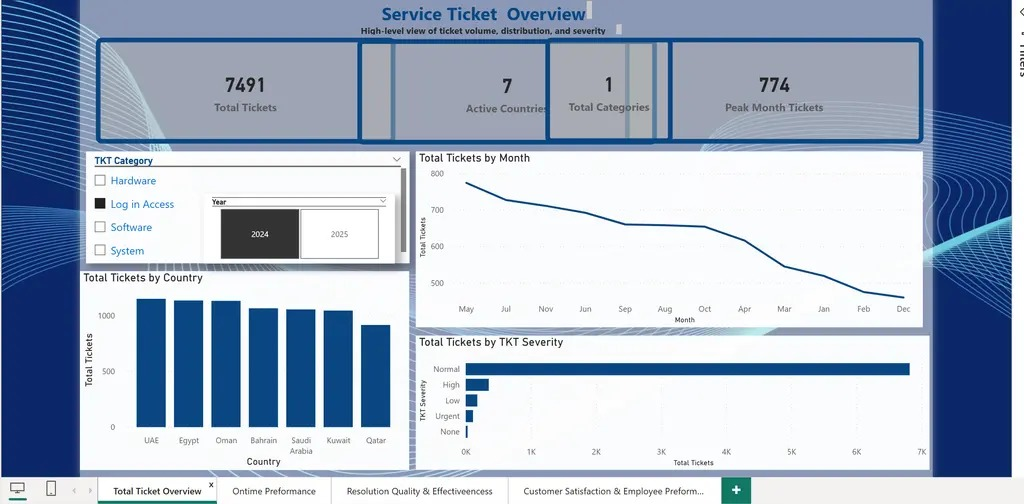

Layout of this report page (visuals, bound fields, positions):
{"tool":"powerbi","page":{"name":"Total Ticket Overview","canvas":[1280,720],"ordinal":0},"visuals":[{"type":"card","fields":{"Values":["Date Table.Total Tickets"]},"box":[23.9,60.3,449.3,159.2],"z":0},{"type":"card","fields":{"Values":["Date Table.Peak Month Tickets"]},"box":[817.8,60.3,448.2,159.2],"z":1000},{"type":"card","fields":{"Values":["Date Table.Active Countries"]},"box":[415.9,62.3,449.3,158],"z":2000},{"type":"card","fields":{"Values":["Date Table.Total Categories"]},"box":[698.4,60.3,191.1,158.1],"z":3000},{"type":"slicer","fields":{"Values":["Tickets.TKT Category"]},"box":[8.7,230.4,485.5,168.1],"z":4000},{"type":"columnChart","fields":{"Category":["Tickets.Country"],"Y":["Date Table.Total Tickets"]},"box":[0,410.1,494.2,298.6],"z":5000},{"type":"slicer","fields":{"Values":["Date Table.Year"]},"box":[185.5,294.2,287,104.3],"z":6000},{"type":"clusteredBarChart","fields":{"Category":["Tickets.TKT Severity"],"Y":["Date Table.Total Tickets"]},"box":[504.3,507.2,771,201.4],"z":7000},{"type":"lineChart","fields":{"Category":["Date Table.Month"],"Y":["Date Table.Total Tickets"]},"box":[504.3,230.4,760.9,263.8],"z":8000},{"type":"textbox","box":[445.9,0,327.6,40.9],"z":9000},{"type":"textbox","box":[416.3,35.3,401.5,25],"z":10000}]}

Visuals, with their boxes in screenshot pixels (x1, y1, x2, y2):
card - Date Table.Total Tickets: crop(93, 35, 392, 141)
card - Date Table.Peak Month Tickets: crop(622, 35, 920, 141)
card - Date Table.Active Countries: crop(354, 36, 653, 141)
card - Date Table.Total Categories: crop(542, 35, 670, 140)
slicer - Tickets.TKT Category: crop(83, 148, 406, 260)
columnChart - Tickets.Country x Date Table.Total Tickets: crop(77, 268, 406, 467)
slicer - Date Table.Year: crop(201, 191, 392, 260)
clusteredBarChart - Tickets.TKT Severity x Date Table.Total Tickets: crop(413, 332, 926, 466)
lineChart - Date Table.Month x Date Table.Total Tickets: crop(413, 148, 920, 324)
textbox: crop(374, 0, 592, 22)
textbox: crop(355, 18, 622, 35)
